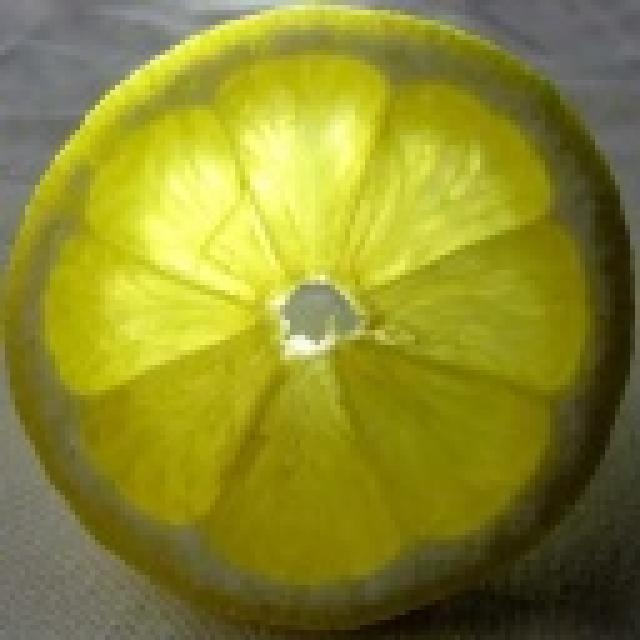Lemon: (5, 12, 640, 640)
